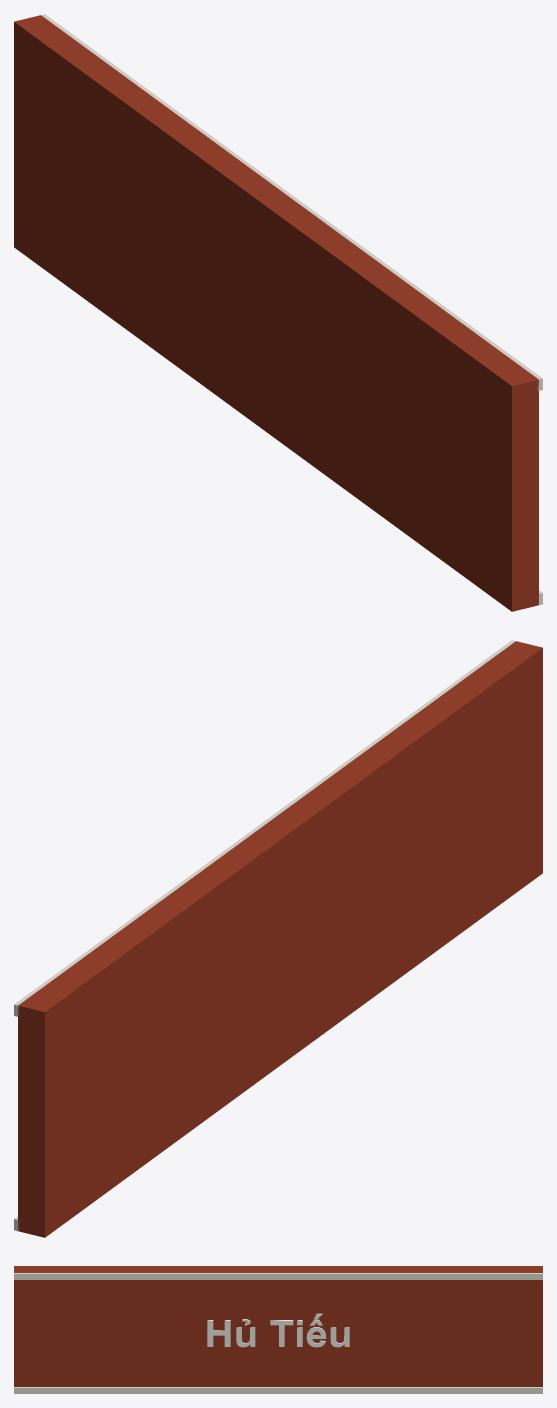
The model's file is OW_Mau_Bang_7_0_8.fbx.
The picture shows the model from 3 angles, top to bottom: view 1: azimuth 30°, elevation 25°; view 2: azimuth 150°, elevation 25°; view 3: azimuth 270°, elevation 25°; orthographic projection. The views are drawn at different scales.
Parts seen in each view (by area): view 1: OW_Bang_Hủ Tiếu.004; view 2: OW_Bang_Hủ Tiếu.004; view 3: OW_Bang_Hủ Tiếu.004, Chữ • Hủ Tiếu.004_Mesh.
Boxes of the visible parts, left/top/right/bottom form: OW_Bang_Hủ Tiếu.004: left=14, top=14, right=542, bottom=611; OW_Bang_Hủ Tiếu.004: left=14, top=640, right=542, bottom=1237; OW_Bang_Hủ Tiếu.004: left=14, top=1266, right=542, bottom=1393; Chữ • Hủ Tiếu.004_Mesh: left=207, top=1313, right=349, bottom=1347.
Bounding box in the file's own units: 0.24 × 1.6 × 6.4.
